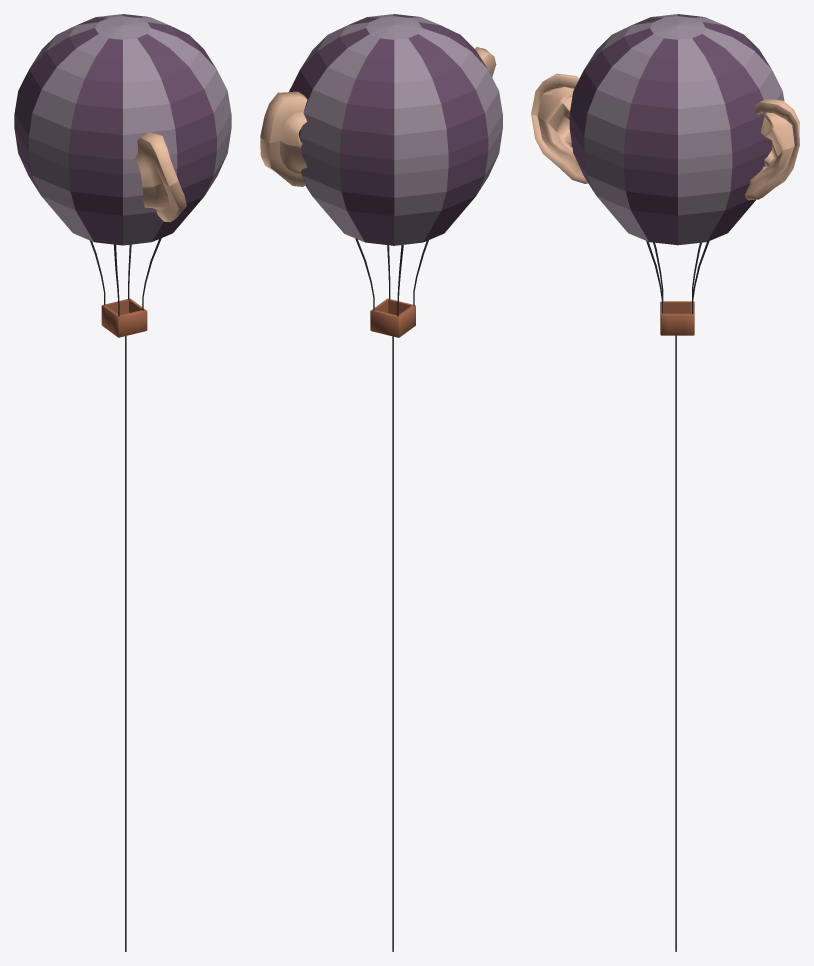
Rendered from HotAirBalloon_Ear2.fbx.
3 views of the same model, side by side, from view 1: azimuth 30°, elevation 25°; view 2: azimuth 150°, elevation 25°; view 3: azimuth 270°, elevation 25° (orthographic).
Parts seen in each view (by area): view 1: pCylinder3; view 2: pCylinder3; view 3: pCylinder3.
Part boxes in pixels (x1,y1,x2,y2): pCylinder3: (14, 14, 231, 951); pCylinder3: (260, 14, 502, 951); pCylinder3: (531, 14, 799, 951).
Bounding box in the file's own units: 0.4714 × 2.22 × 0.5846.
